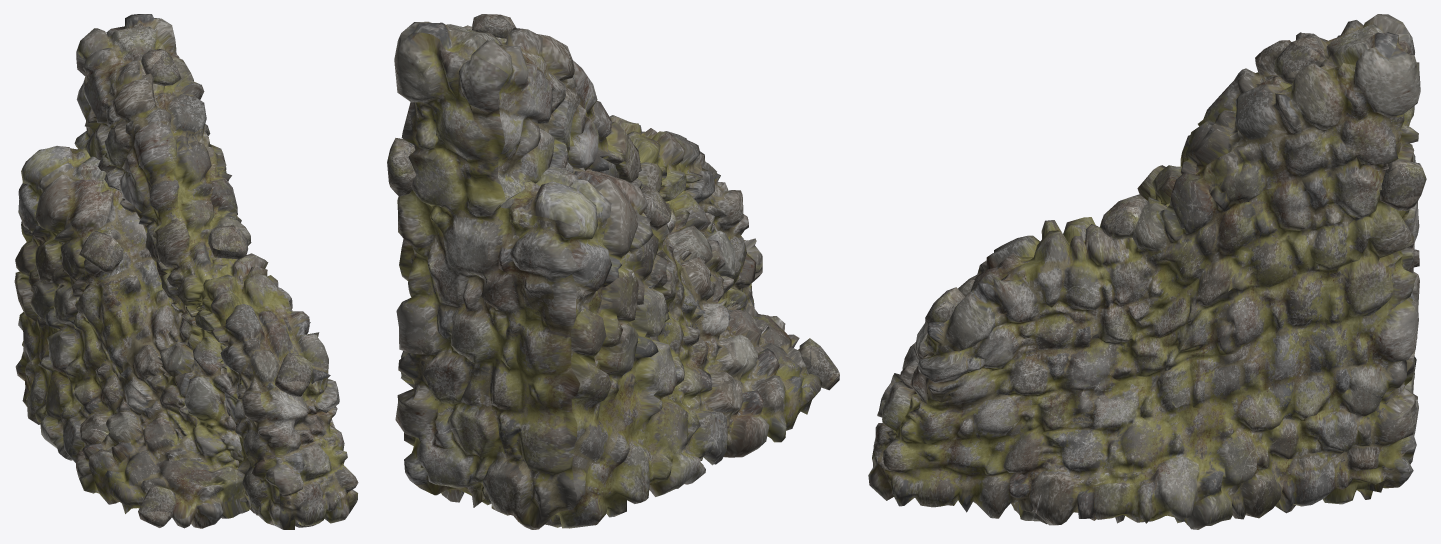
Rendered from SM_Wall_Stone_End_01.fbx.
3 views of the same model, side by side, from view 1: azimuth 30°, elevation 25°; view 2: azimuth 150°, elevation 25°; view 3: azimuth 270°, elevation 25° (orthographic). The views are drawn at different scales.
Visible parts, largest first — view 1: SM_Wall_Stone_End_01_LOD0; view 2: SM_Wall_Stone_End_01_LOD0; view 3: SM_Wall_Stone_End_01_LOD0.
Boxes of the visible parts, box(x1,y1,x2,y2) form: SM_Wall_Stone_End_01_LOD0: box(14, 14, 358, 529); SM_Wall_Stone_End_01_LOD0: box(387, 14, 839, 529); SM_Wall_Stone_End_01_LOD0: box(868, 14, 1426, 529).
Size of the model in its own units: 215 by 339 by 316.
